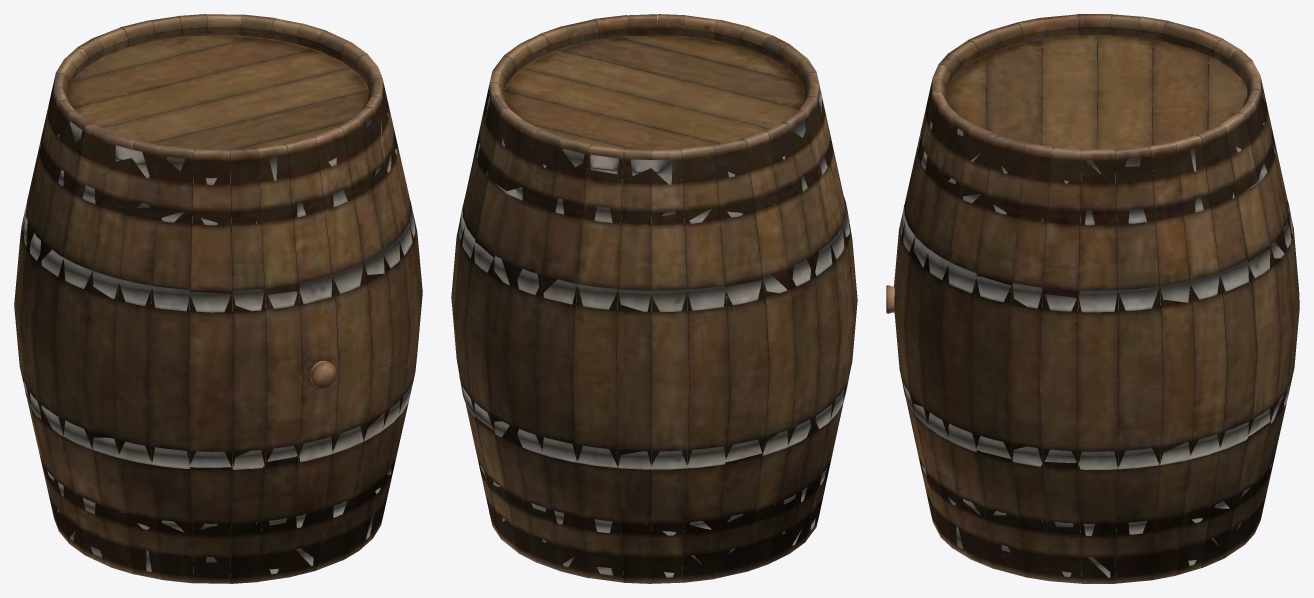
The model's file is wine_barrel_01.glb.
3 renders of one model, left to right at view 1: azimuth 30°, elevation 25°; view 2: azimuth 150°, elevation 25°; view 3: azimuth 270°, elevation 25°, orthographic.
Visible parts, largest first — view 1: wine_barrel_01, wine_barrel_01_Lid, wine_barrel_01_bung; view 2: wine_barrel_01, wine_barrel_01_Lid; view 3: wine_barrel_01, wine_barrel_01_Lid.
Part boxes in pixels (x1,y1,x2,y2): wine_barrel_01: (14, 14, 422, 583); wine_barrel_01_Lid: (67, 36, 368, 149); wine_barrel_01_bung: (310, 361, 336, 388); wine_barrel_01: (451, 14, 857, 583); wine_barrel_01_Lid: (503, 36, 805, 152); wine_barrel_01: (894, 14, 1299, 583); wine_barrel_01_Lid: (946, 35, 1247, 149).
Size of the model in its own units: 0.7419 by 0.8696 by 0.7554.
Materials: 1 (1 with a texture image).
